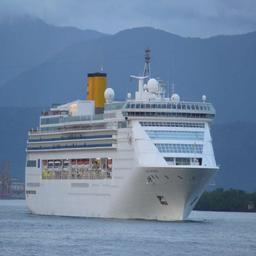Ship: (23, 67, 221, 226)
